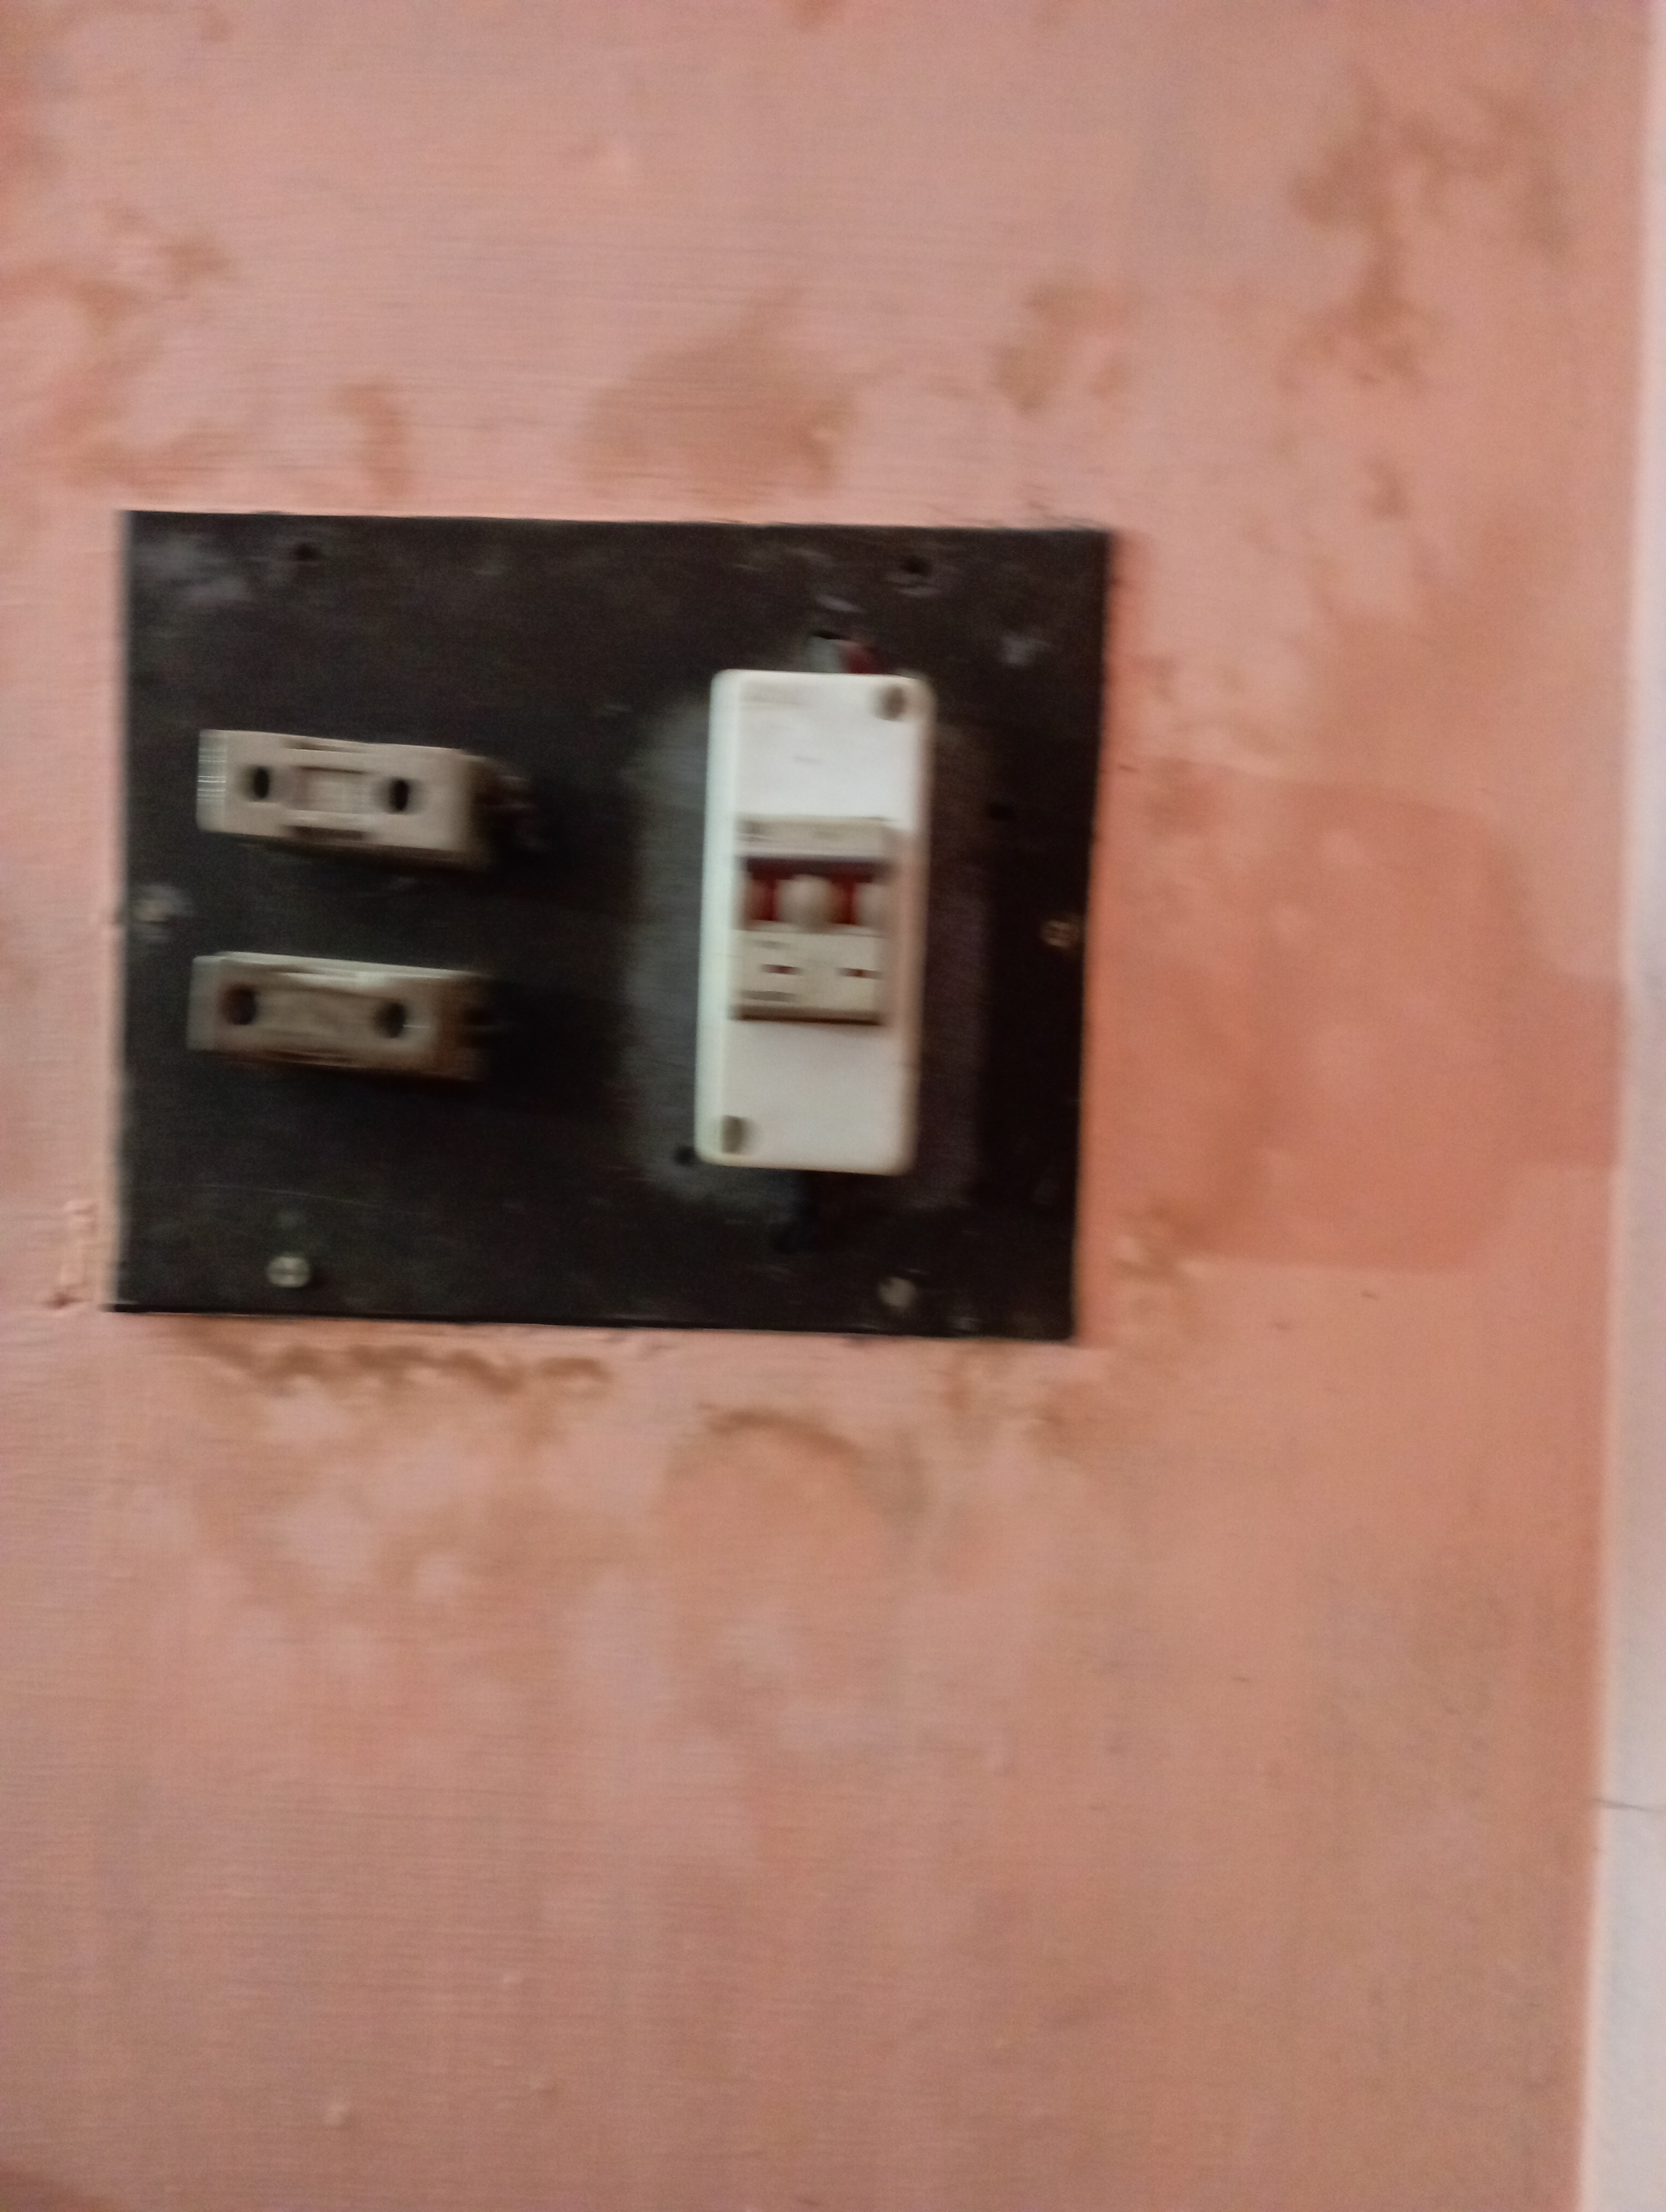ciruit_breaker: (670, 656, 943, 1189)
fuse: (177, 710, 516, 855), (180, 922, 507, 1070)
